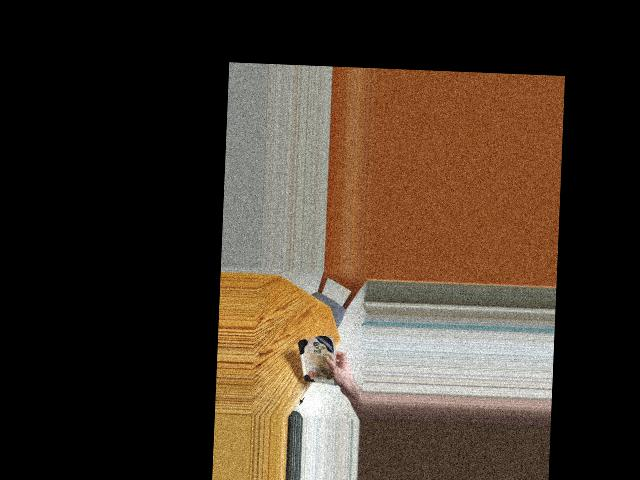cheese: (300, 332, 337, 391)
